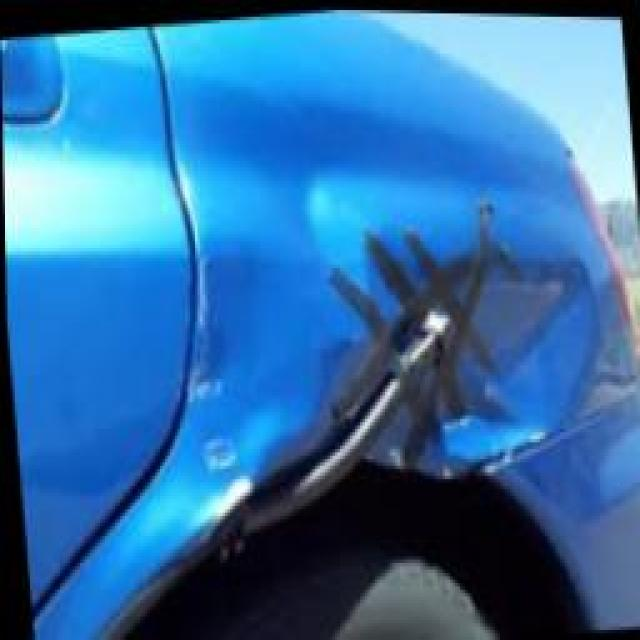Fender: (284, 148, 634, 486)
